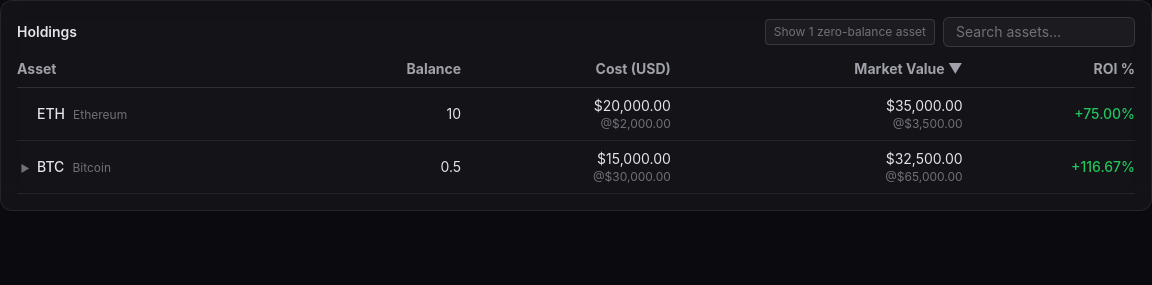
Test: HoldingsSummary › expands wallet breakdown on click
The image size is (1152, 285).
BTC has wallet_breakdown, click its row
Step 1. Click the text "BTC" → (576, 167), box [17, 140, 1135, 194]
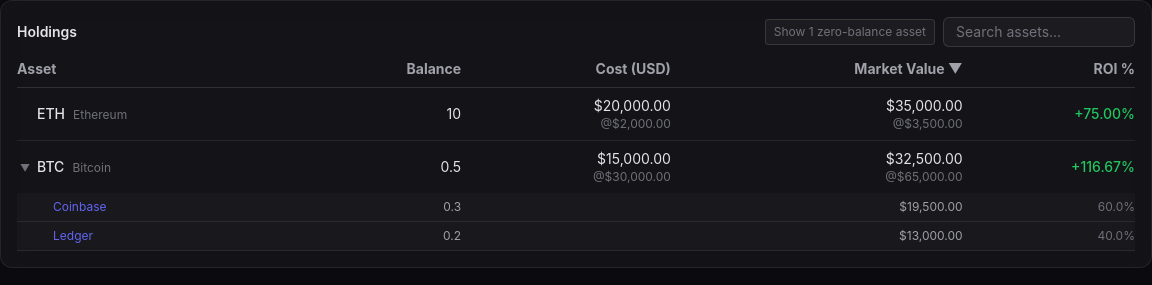
Now the link "Coinbase" is shown, box [53, 199, 106, 214]
Now the link "Ledger" is shown, box [53, 228, 93, 243]
